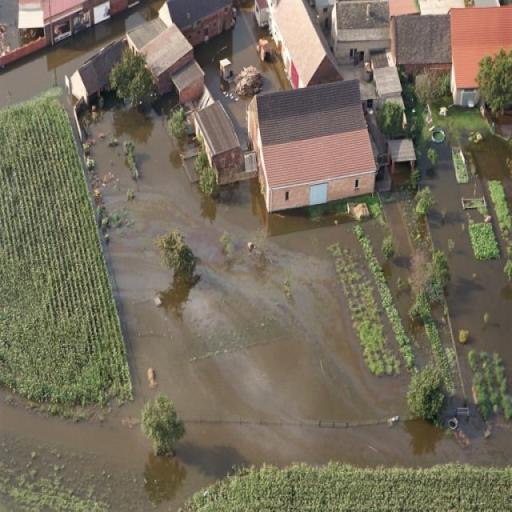flood: (0, 108, 512, 512), (0, 0, 163, 107), (194, 8, 292, 138)
house: (255, 82, 378, 216), (0, 1, 128, 54), (447, 8, 512, 111), (274, 2, 342, 86), (190, 94, 249, 188), (145, 30, 206, 100), (332, 0, 393, 66), (166, 0, 233, 48), (67, 38, 114, 106)
